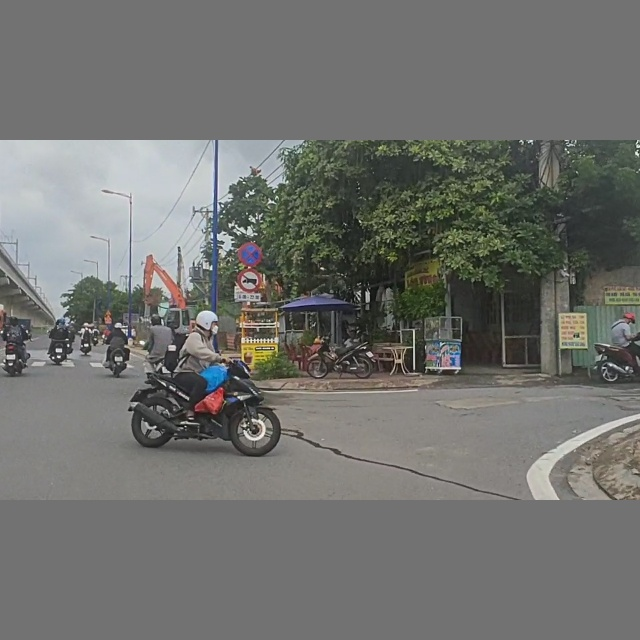B.8a: (237, 268, 263, 293)
P.130: (239, 243, 265, 267)
